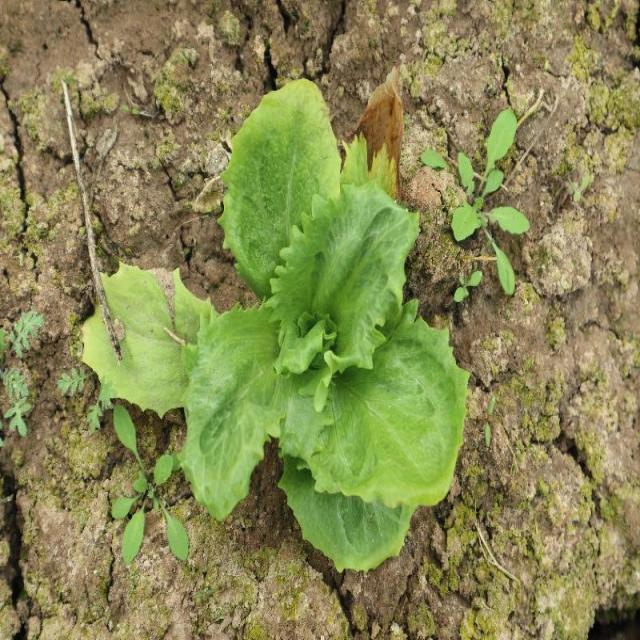crop: (82, 79, 468, 574)
